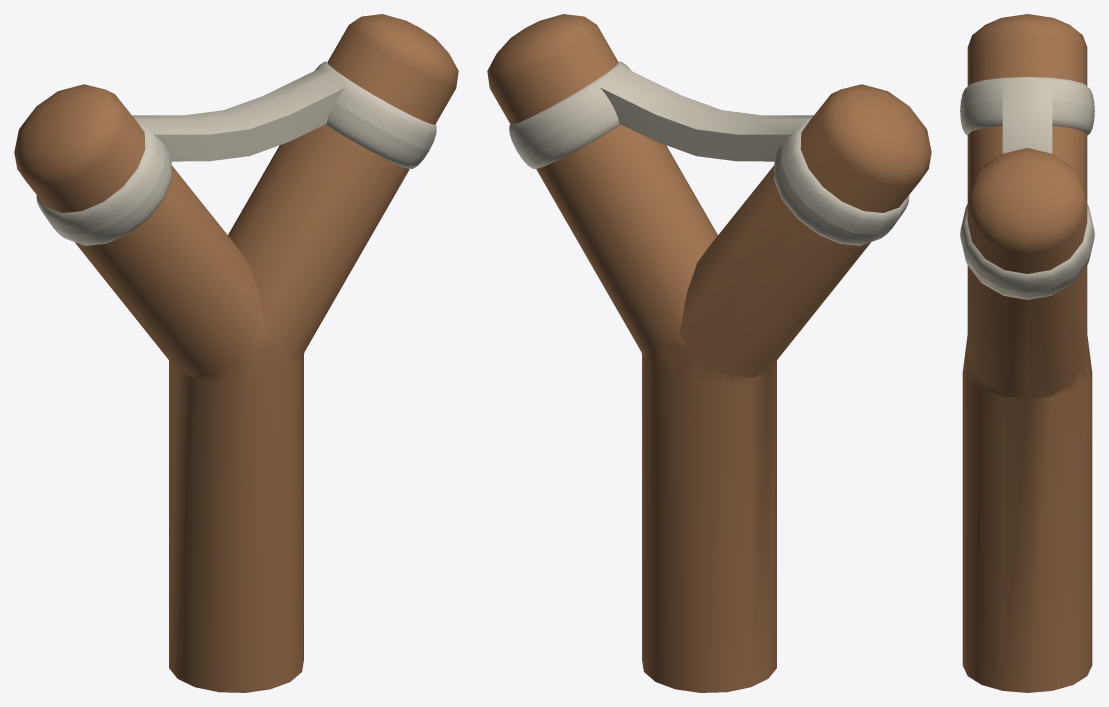
Rendered from slingshot.dae.
The picture shows the model from 3 angles, left to right: view 1: azimuth 30°, elevation 25°; view 2: azimuth 150°, elevation 25°; view 3: azimuth 270°, elevation 25°; orthographic projection. The views are drawn at different scales.
Visible parts, largest first — view 1: Object; view 2: Object; view 3: Object.
Part boxes in pixels (box(x1,y1,x2,y2)): Object: box(14, 14, 458, 692); Object: box(487, 14, 931, 692); Object: box(960, 14, 1094, 692).
Bounding box in the file's own units: 11.63 × 3.33 × 15.81.
